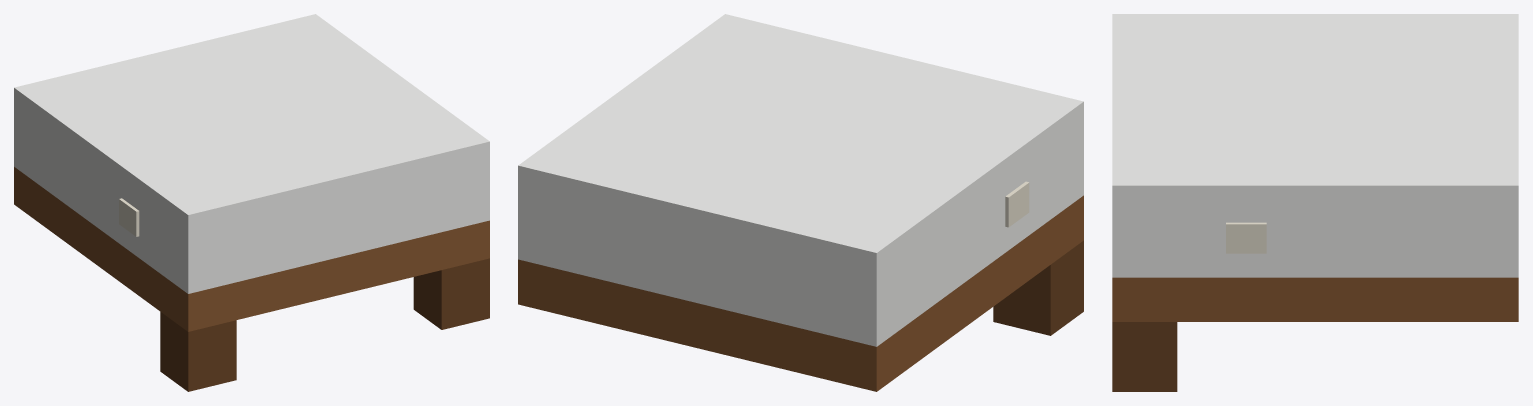
Rendered from bed_white_foot.glb.
3 views of the same model, side by side, from view 1: azimuth 30°, elevation 25°; view 2: azimuth 150°, elevation 25°; view 3: azimuth 270°, elevation 25° (orthographic). The views are drawn at different scales.
Visible parts, largest first — view 1: body; view 2: body; view 3: body.
Part boxes in pixels (box(x1,y1,x2,y2)): body: box(14, 14, 489, 391); body: box(518, 14, 1083, 391); body: box(1112, 14, 1518, 391).
Bounding box in the file's own units: 1.02 × 0.56 × 1.
